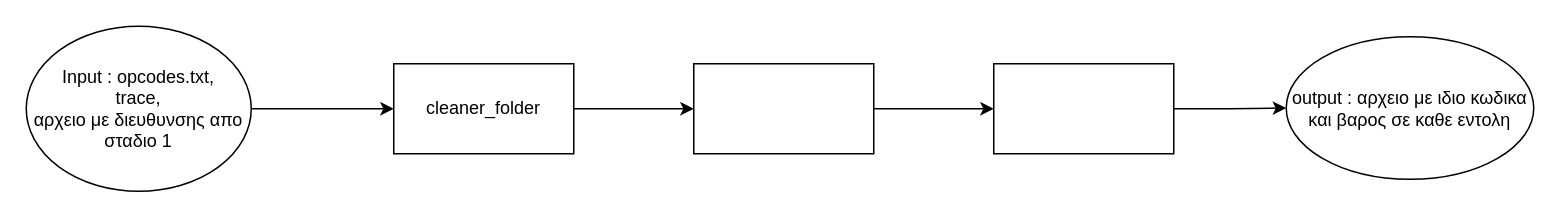
The diagram is 1560 pixels wide and 218 high, and some of its shapes have lost their labels. The shapes that lost their labels are listed below. From the top down, each one's centre as x and y in pixels, then its label:
the point at 783,108: run_cleaner.txt
the point at 1083,108: αντιστοιχησε βαρη σε ολες τις εντολεσ
